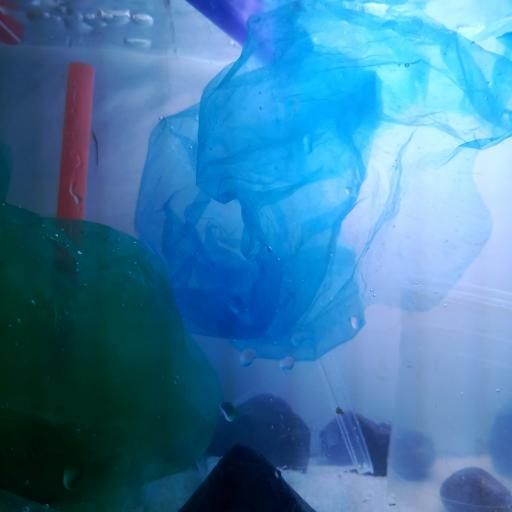plastic_bag: (134, 0, 511, 362), (0, 203, 224, 512)
plastic_cup: (382, 273, 512, 512), (190, 354, 377, 490)
plastic_straw: (56, 58, 95, 222), (186, 0, 250, 54)
